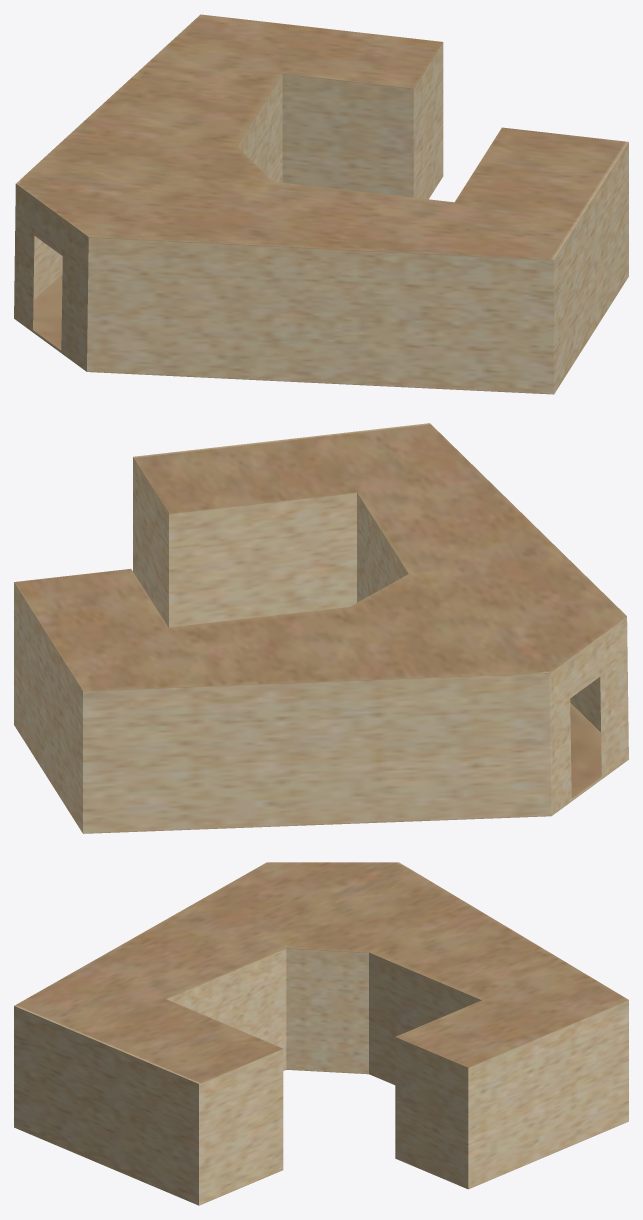
The model's file is thm_tato_imprv_building_s11_r1_foyer_mesh_l1.fbx.
3 views of the same model, one above another, from view 1: azimuth 30°, elevation 25°; view 2: azimuth 150°, elevation 25°; view 3: azimuth 270°, elevation 25° (orthographic). The views are drawn at different scales.
Parts seen in each view (by area): view 1: mesh_node; view 2: mesh_node; view 3: mesh_node.
Part boxes in pixels (<box>): mesh_node: <box>14,14,628,394</box>; mesh_node: <box>14,423,628,833</box>; mesh_node: <box>14,862,628,1205</box>.
Bounding box in the file's own units: 17.61 × 4.49 × 20.55.
